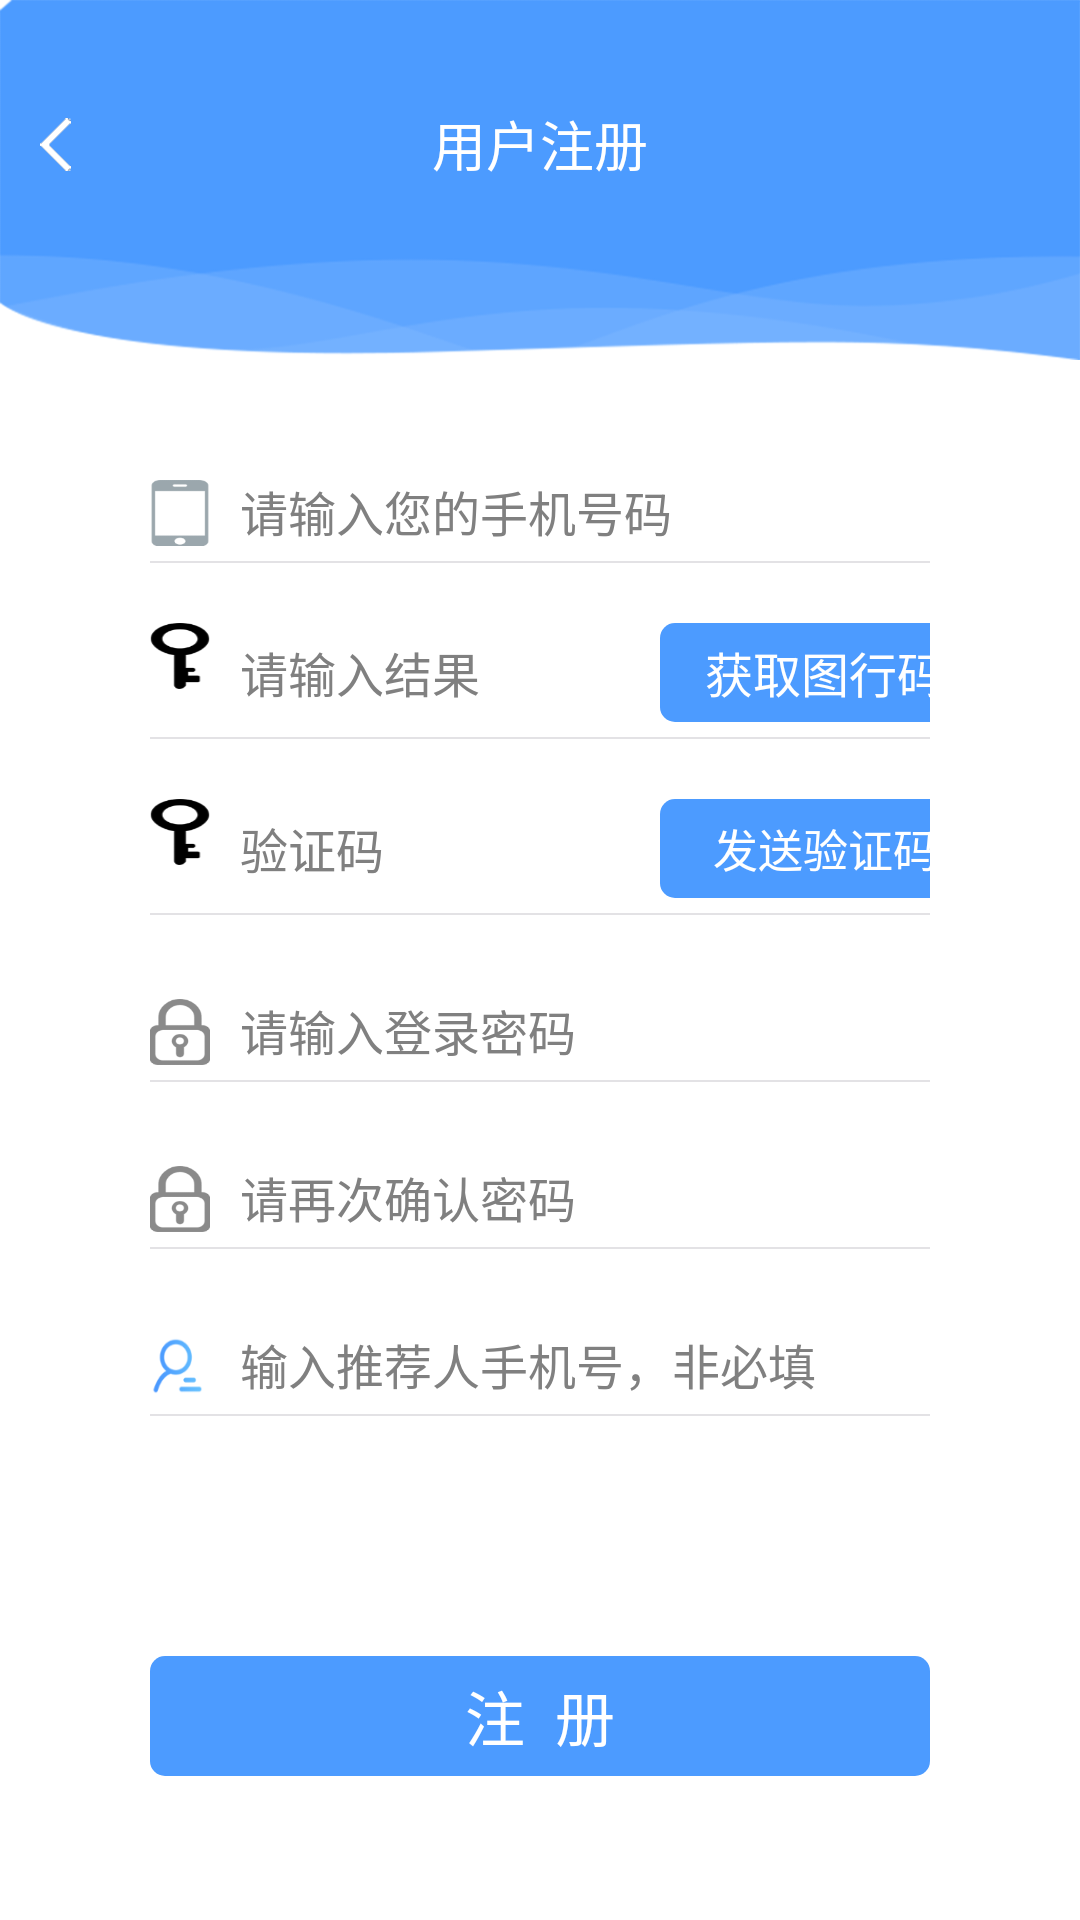

Icon click points for this 1080 × 1920 phone screenshot, format point (x, y):
login return: point (55, 144)
register code: point (180, 656), point (180, 832)
register lock: point (180, 1032), point (180, 1199)
register phone: point (180, 513)
